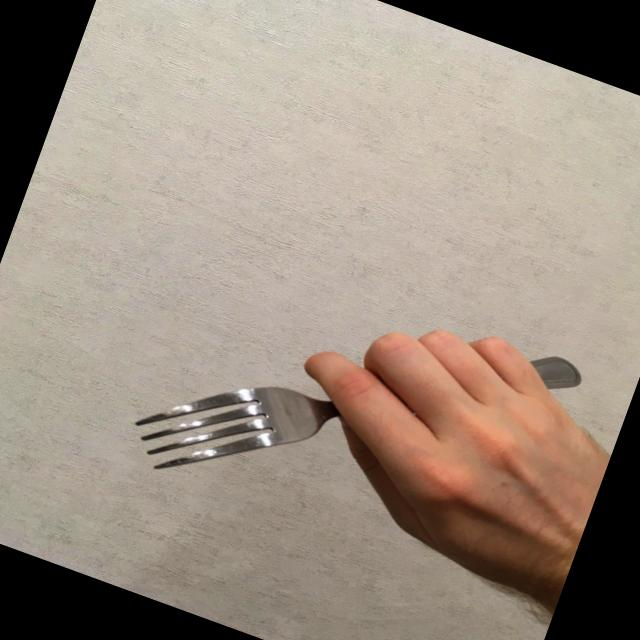fork: (121, 228, 588, 598)
